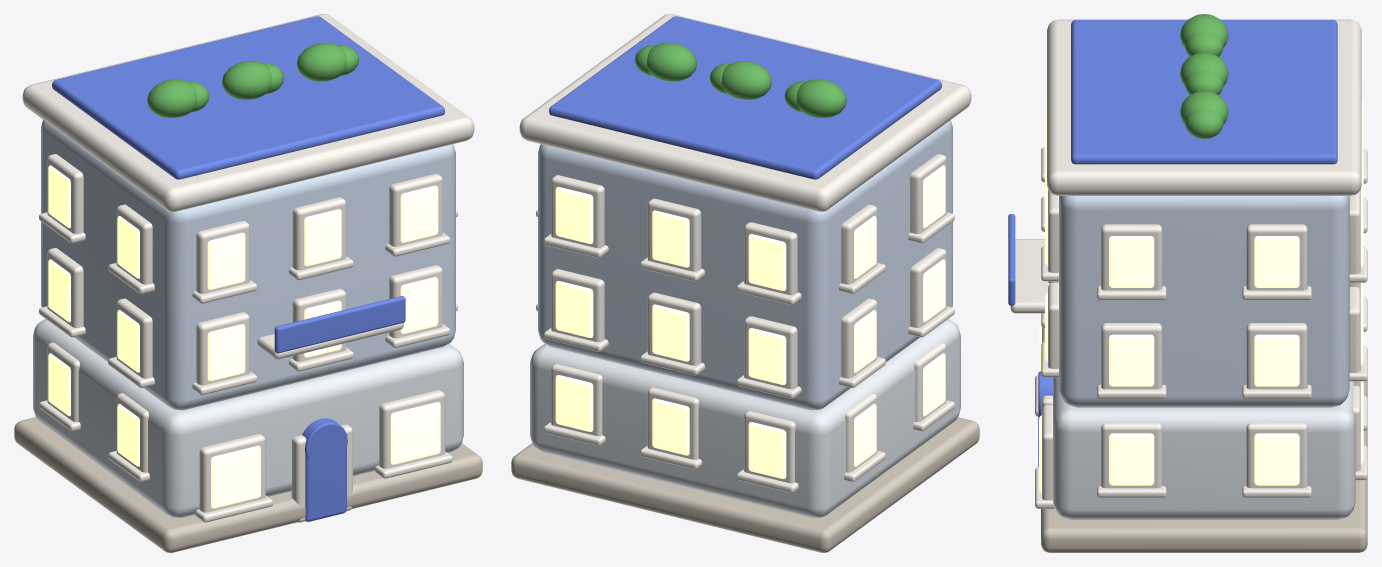
3 views of the same model, side by side, from view 1: azimuth 30°, elevation 25°; view 2: azimuth 150°, elevation 25°; view 3: azimuth 270°, elevation 25° (orthographic). The views are drawn at different scales.
Parts seen in each view (by area): view 1: Cube; view 2: Cube; view 3: Cube.
Boxes of the visible parts, x1,y1,x2,y2 form: Cube: (14,14,482,552); Cube: (511,14,979,552); Cube: (1008,14,1367,552).
Size of the model in its own units: 0.64 by 0.7615 by 0.594.
